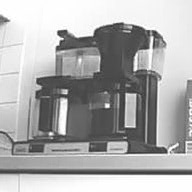not empty coffee: (88, 86, 145, 138)
